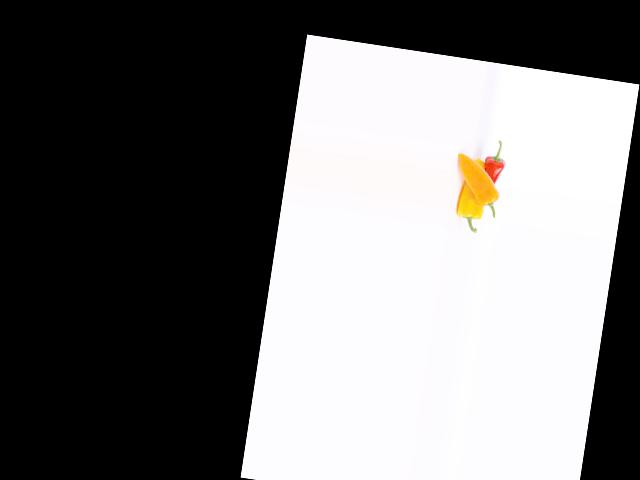bell_pepper: (448, 174, 491, 236)
